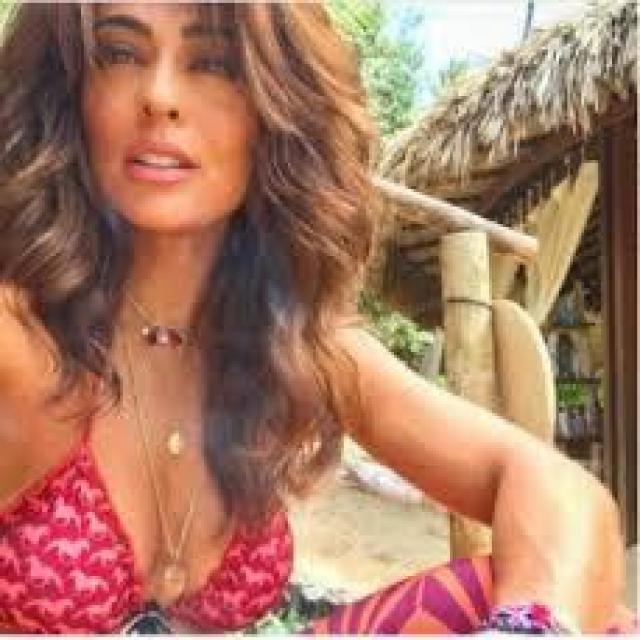person: (0, 0, 453, 631)
